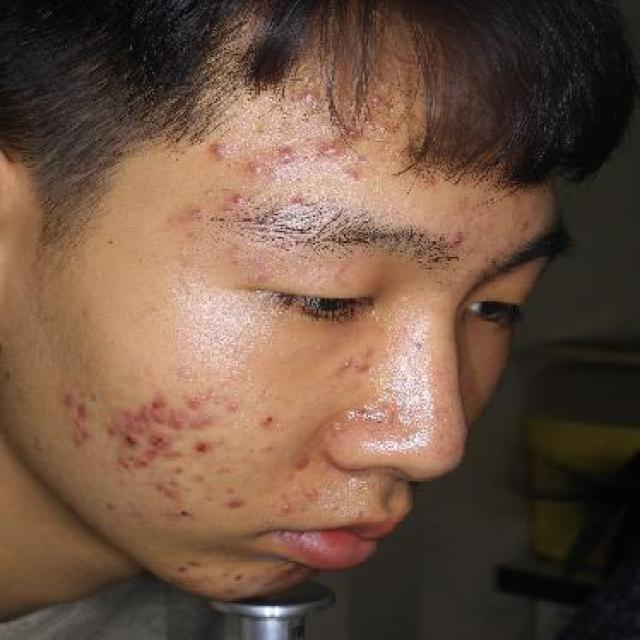Acne: (280, 446, 321, 478), (268, 140, 302, 174), (218, 493, 255, 519), (204, 131, 233, 163), (69, 399, 100, 427), (316, 135, 346, 163), (444, 222, 475, 249), (243, 153, 269, 184), (52, 385, 82, 409), (298, 86, 327, 109), (228, 188, 250, 210)
Blackheads: (189, 437, 213, 457), (172, 503, 196, 523), (118, 431, 142, 449), (172, 558, 192, 578), (148, 431, 167, 449), (259, 408, 279, 424), (230, 568, 247, 583)
Whiteheads: (332, 352, 360, 373), (346, 163, 368, 186)
